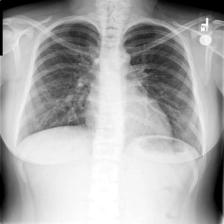normal: (15, 13, 205, 154)
